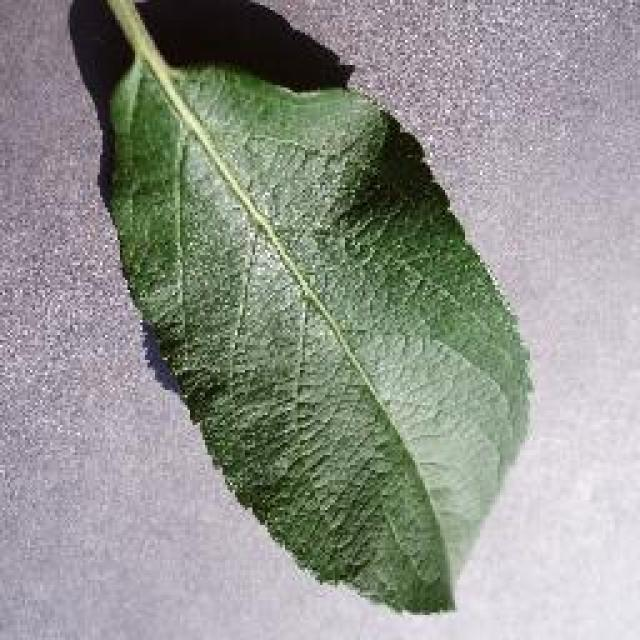apple healthy: (68, 0, 538, 615)
